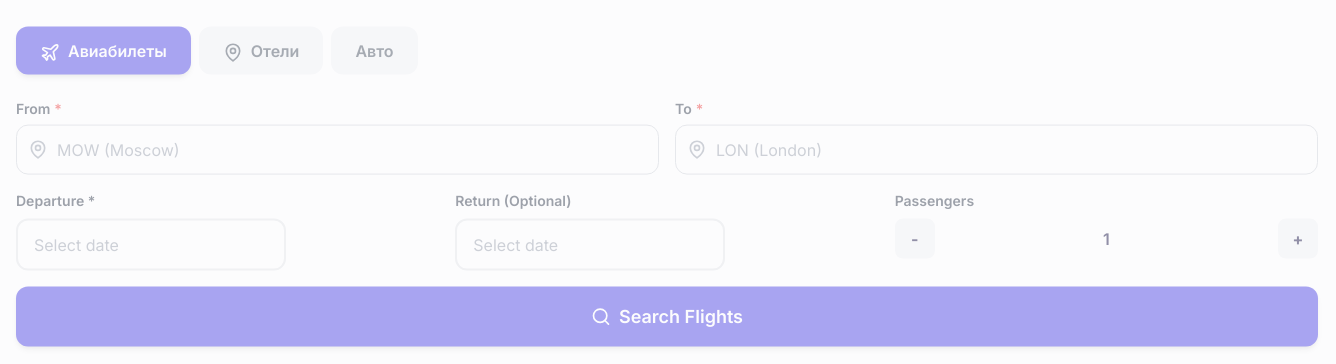
Scenario: SearchWidget Component › Flight Search Form › decrements passengers when - clicked
What coordinates should you click on to do the following:
click the button "+"
I would click on:
 (1298, 239)
Its box is [1278,219,1318,259].
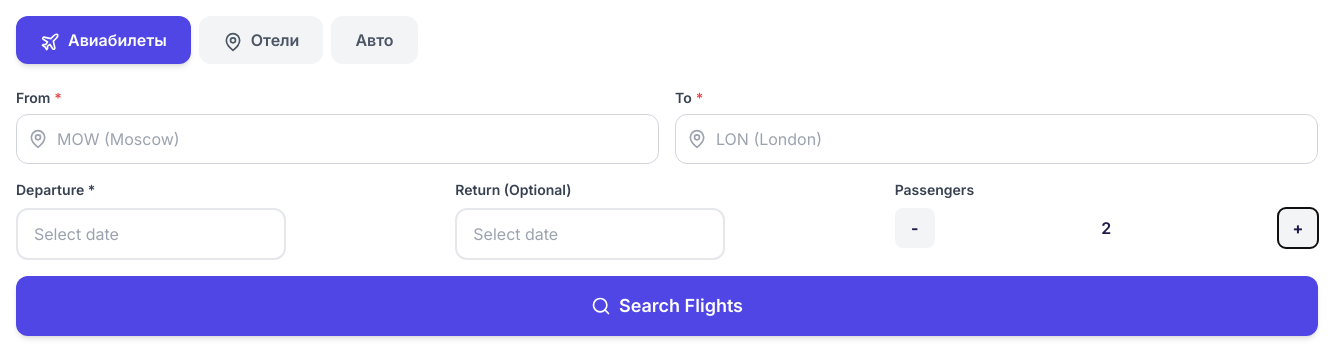
What coordinates should you click on to do the following:
click the button "+"
I would click on:
 (1298, 228)
Its box is [1278,208,1318,248].
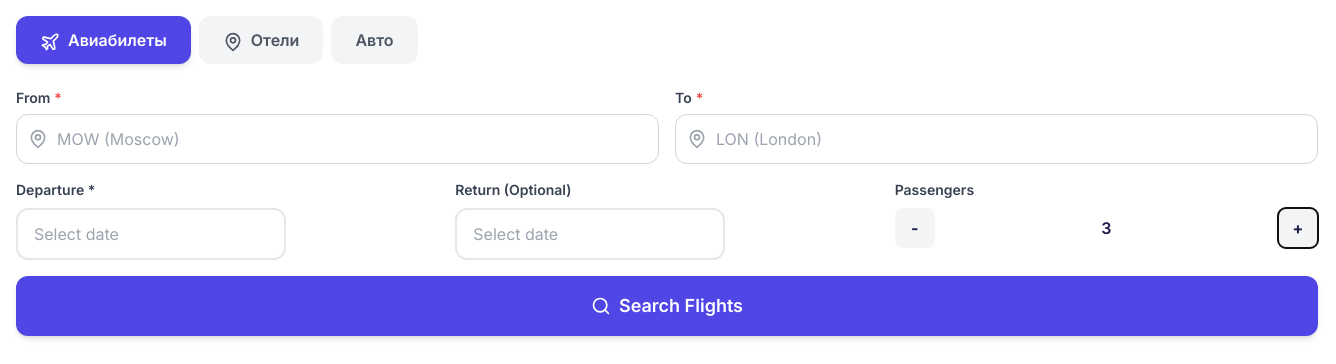
What coordinates should you click on to do the following:
click the button "-"
I would click on:
 (915, 228)
Its box is [895,208,935,248].
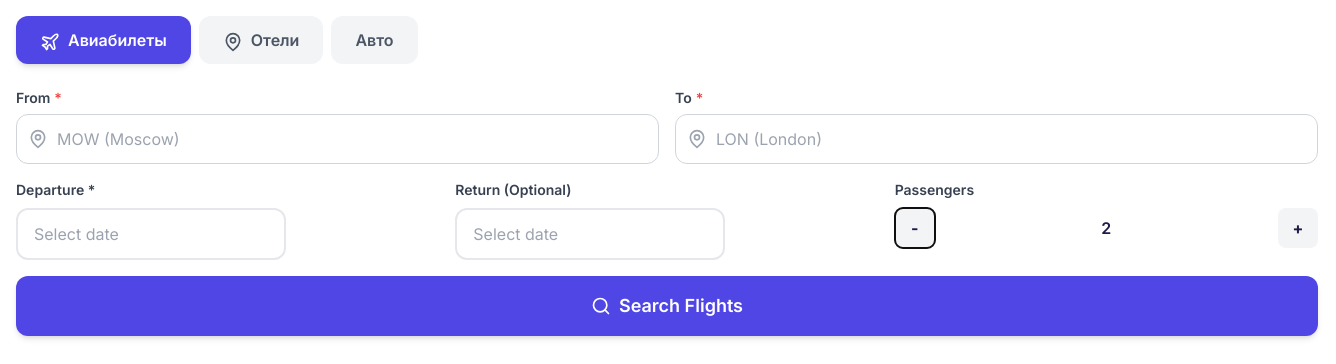
Expected: the text "2" is shown, [1101,218,1111,238]
